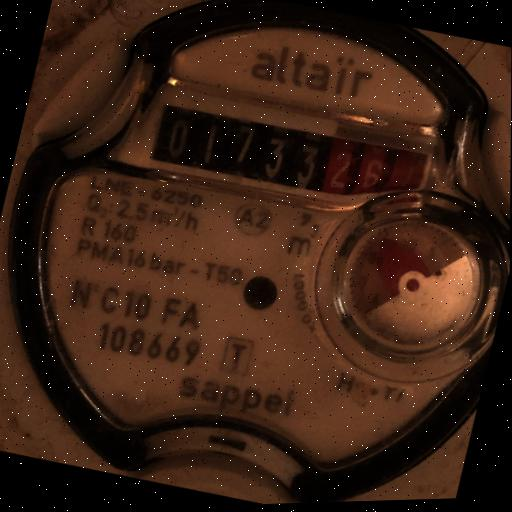0: (162, 106, 198, 166)
1: (191, 109, 232, 172), (388, 148, 428, 200)
2: (322, 136, 361, 197)
3: (289, 128, 327, 191), (258, 123, 293, 184)
6: (355, 141, 390, 199)
7: (222, 117, 261, 178)
border_water_meter_number: (149, 92, 430, 220)
